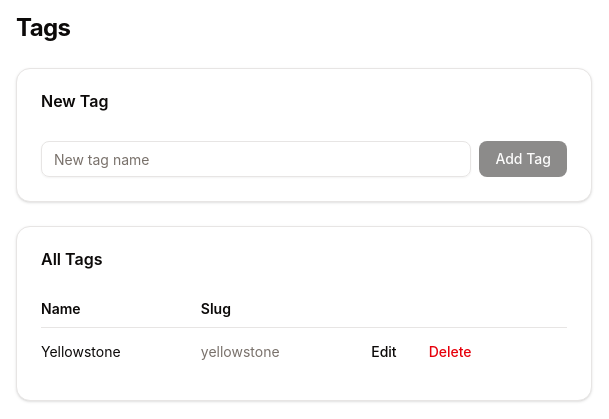
Scenario: TagsPage › shows an inline rename form when Edit is clicked
This screenshot has width=609, height=419.
What coordinates should you click on to do the following:
click the button "Edit"
I would click on:
 (384, 352)
Its box is [359,336,409,368].
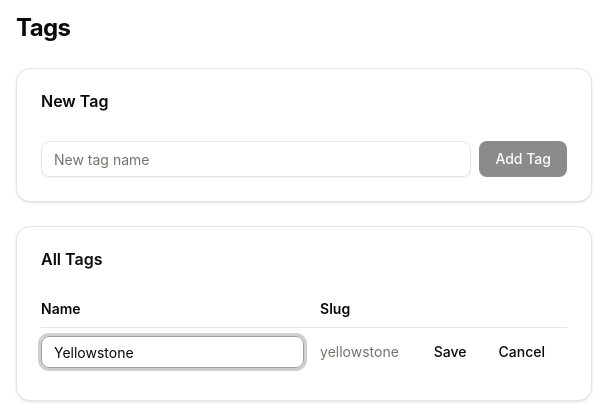
Result: the field named "rename tag" is shown at [41,336,304,368]
Result: the button "Save" is shown at [422,336,479,368]
Result: the button "Cancel" is shown at [487,336,557,368]
